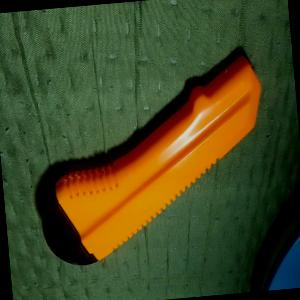estilete: (20, 46, 278, 272)
